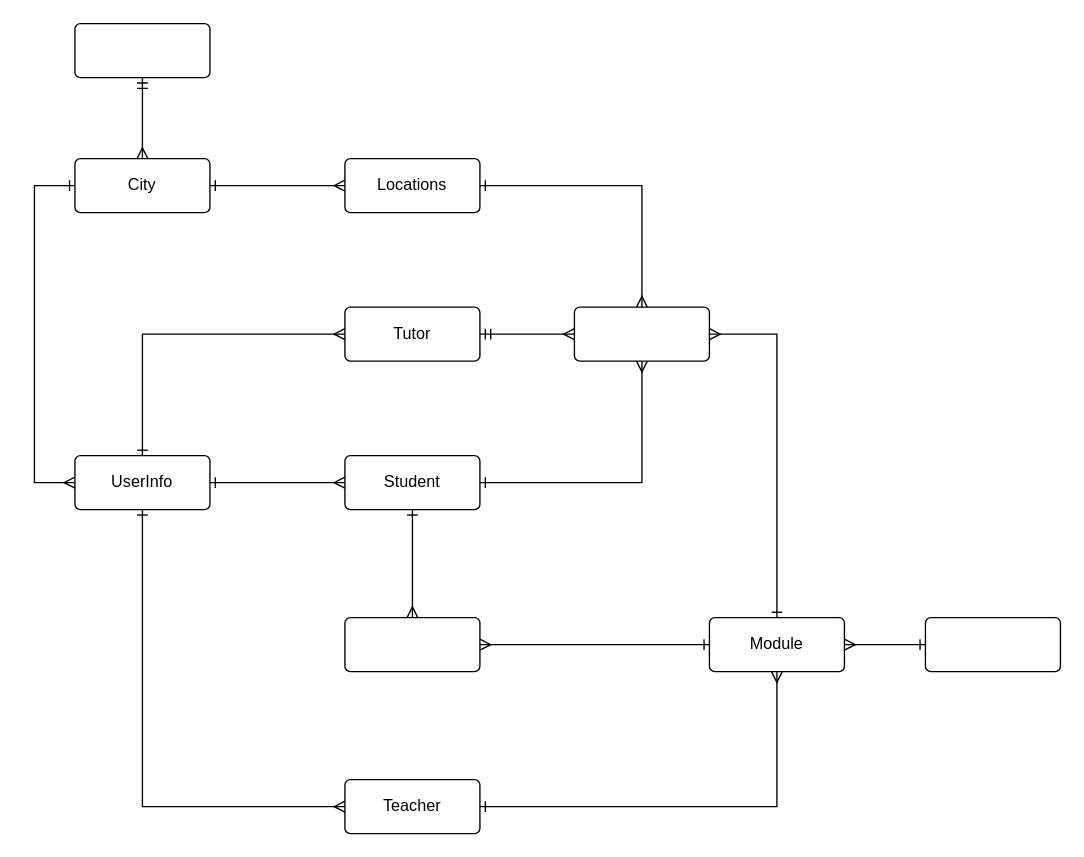
Some shapes in this 1084 by 857 pixel diagram are drawn without their labels. Each missing label, with the box of its shape:
Course: (573, 306, 709, 361)
FormativeUnit: (924, 616, 1060, 672)
Province: (74, 22, 210, 78)
Vote: (344, 616, 480, 672)
